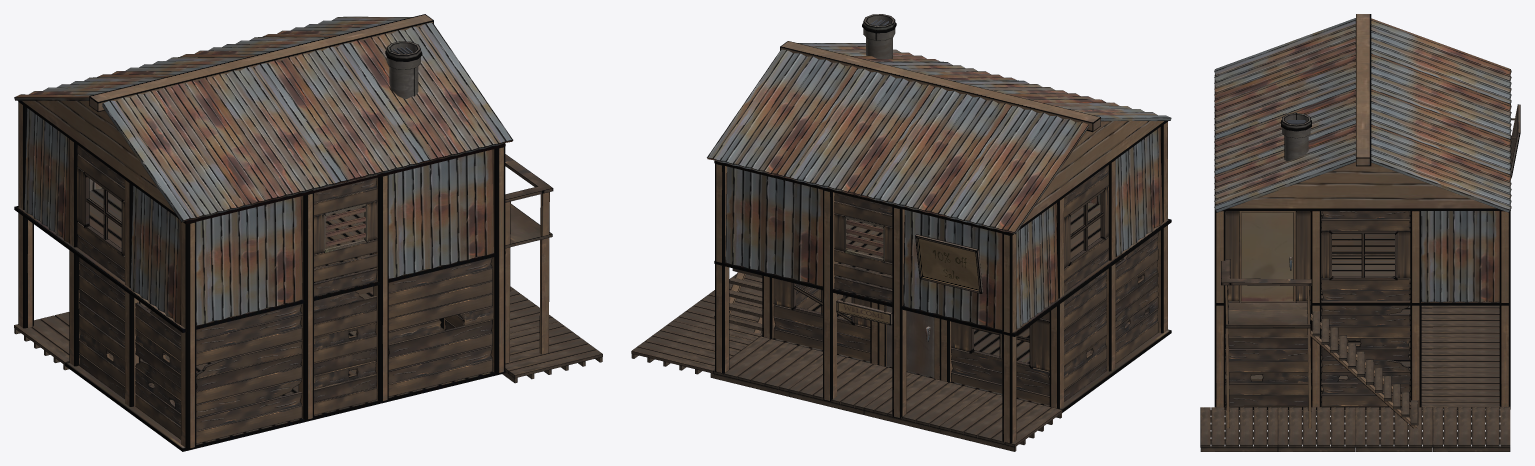
Rendered from shop_02.fbx.
3 renders of one model, left to right at view 1: azimuth 30°, elevation 25°; view 2: azimuth 150°, elevation 25°; view 3: azimuth 270°, elevation 25°, orthographic. The views are drawn at different scales.
Visible parts, largest first — view 1: Shop_02; view 2: Shop_02, Door_2; view 3: Shop_02, Door.
Part boxes in pixels (x1,y1,x2,y2): Shop_02: [14, 14, 602, 451]; Shop_02: [631, 14, 1171, 451]; Door_2: [886, 306, 934, 377]; Shop_02: [1200, 14, 1520, 451]; Door: [1241, 212, 1293, 301].
Size of the model in its own units: 944 by 669 by 716.
Materials: 1 (1 with a texture image).
